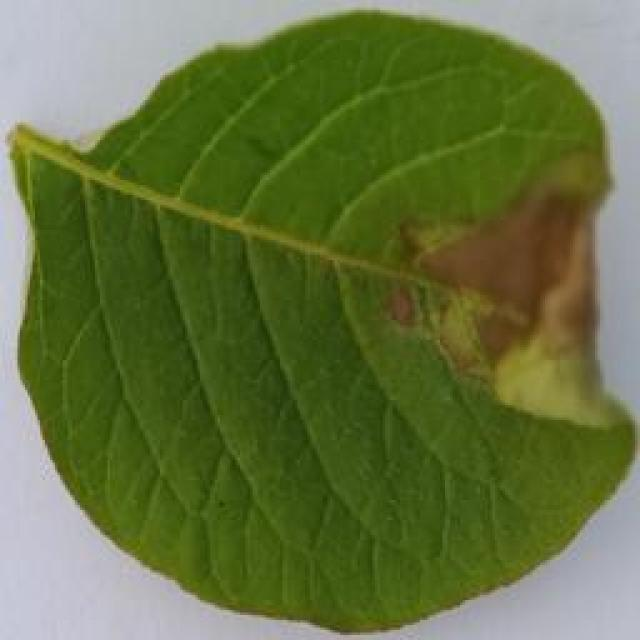Potato_Late_Blight: (8, 13, 624, 635)
